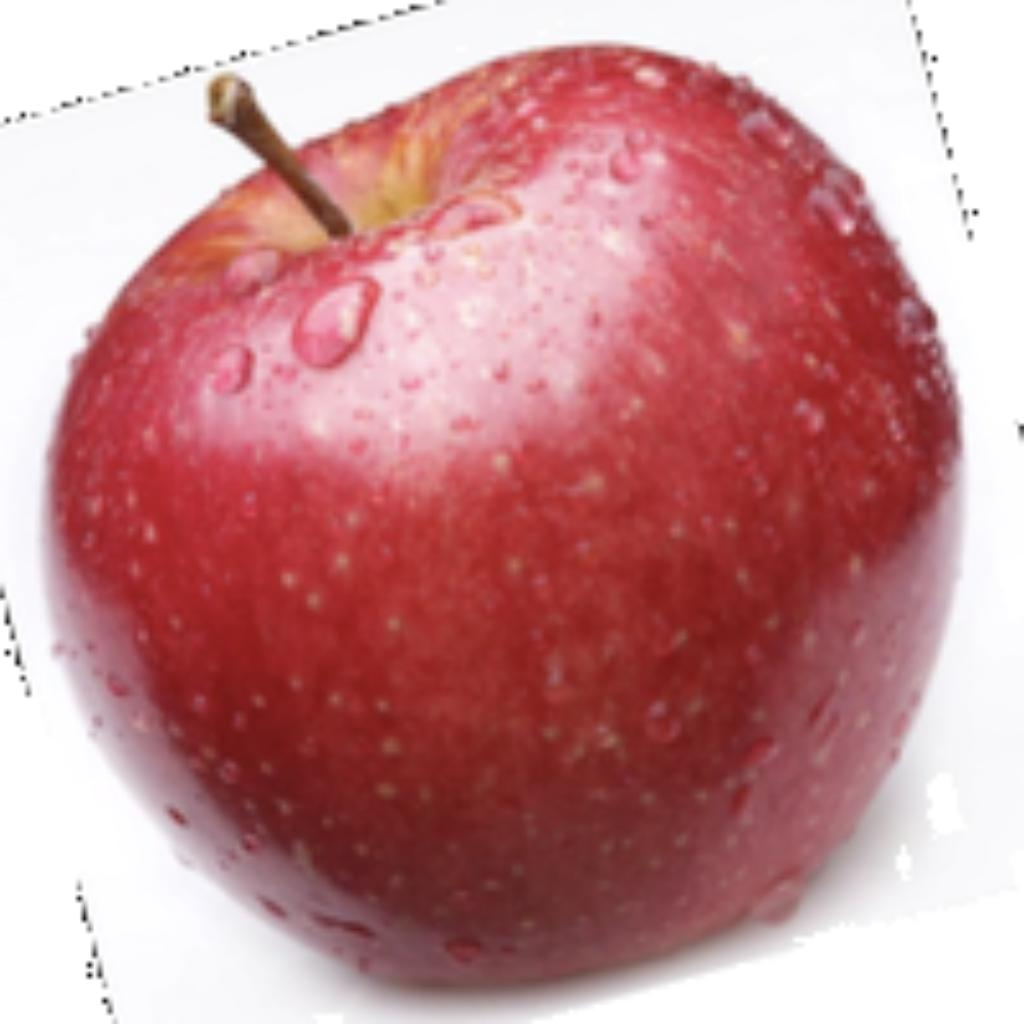apple: (31, 36, 973, 1019)
